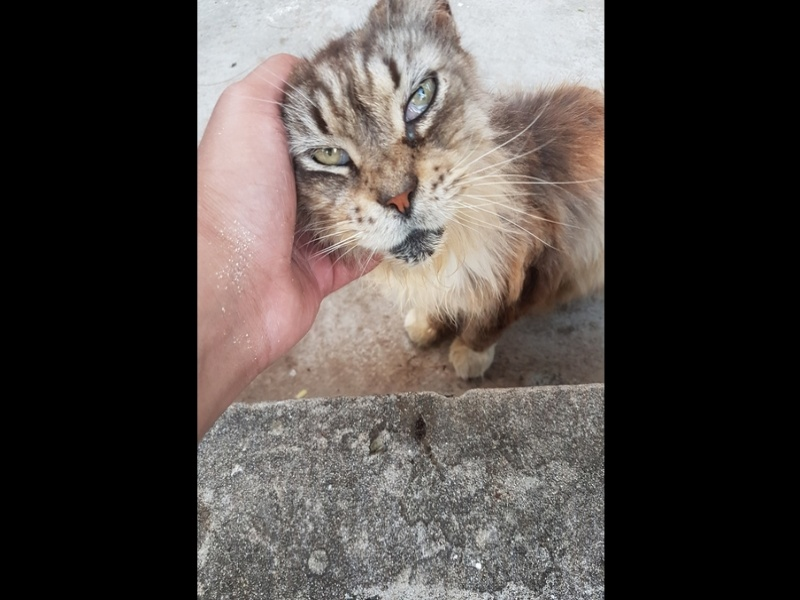cat: (288, 6, 602, 383)
